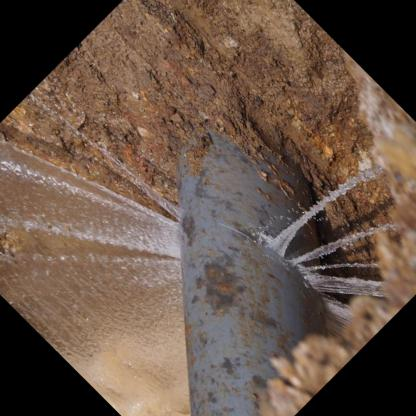burst: (247, 222, 351, 325), (122, 198, 194, 281)
